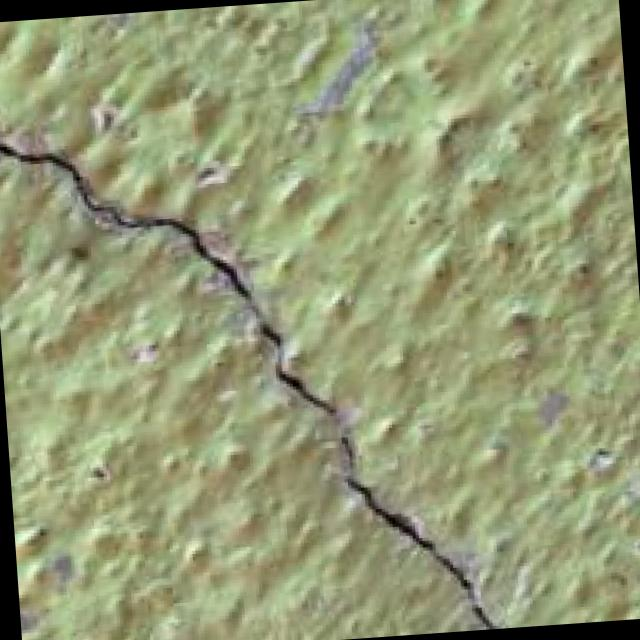crack: (0, 27, 517, 640)
